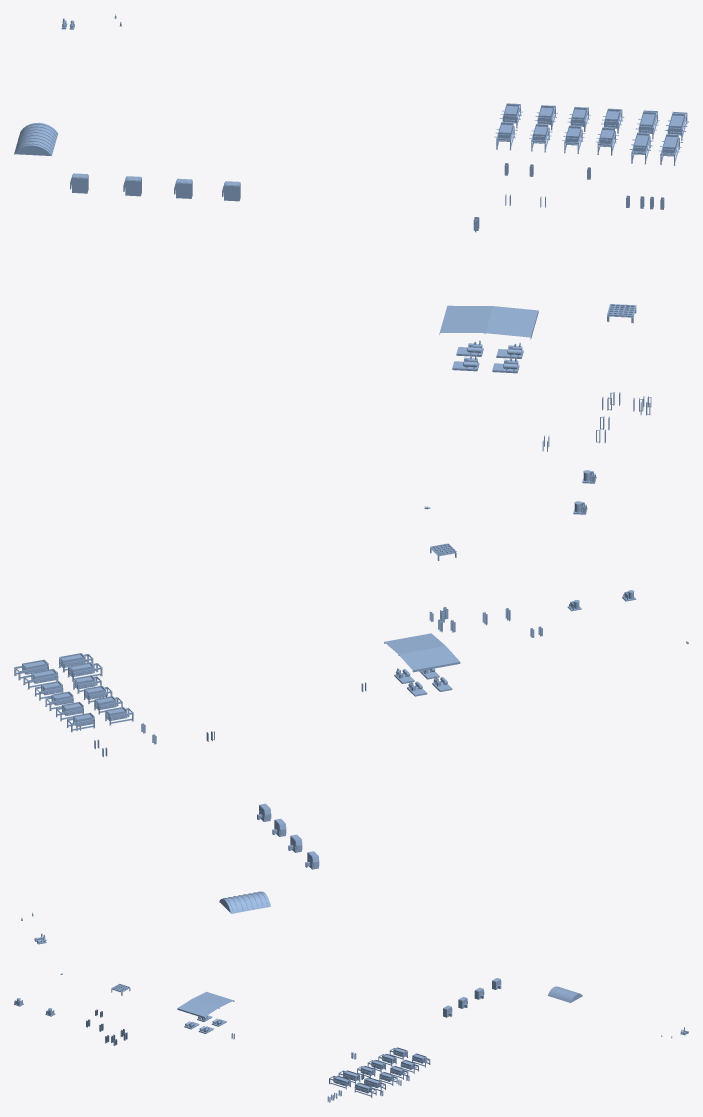
The model's file is NoLod_14.glb.
3 renders of one model, top to bottom at view 1: azimuth 30°, elevation 25°; view 2: azimuth 150°, elevation 25°; view 3: azimuth 270°, elevation 25°, orthographic. The views are drawn at different scales.
Parts seen in each view (by area): view 1: rtc; view 2: rtc; view 3: rtc.
Part boxes in pixels (<box>): rtc: <box>14,14,688,514</box>; rtc: <box>14,543,688,944</box>; rtc: <box>14,973,688,1102</box>.
Bounding box in the file's own units: 113 × 19.57 × 223.
